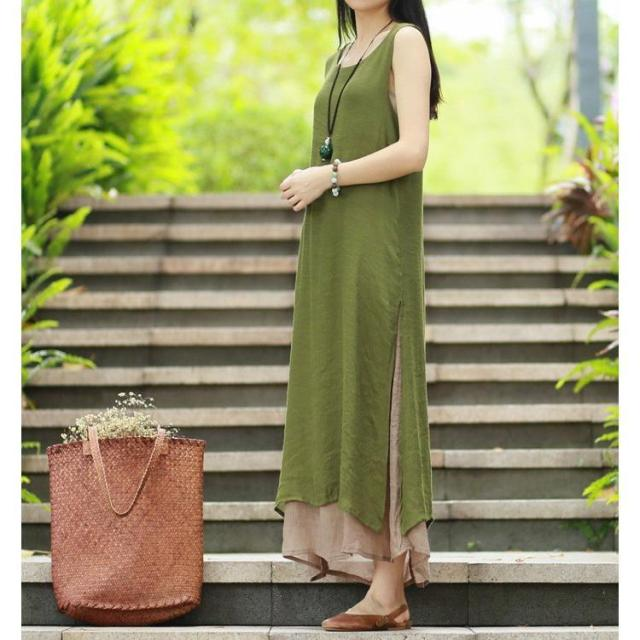vest dress: (282, 24, 428, 581)
